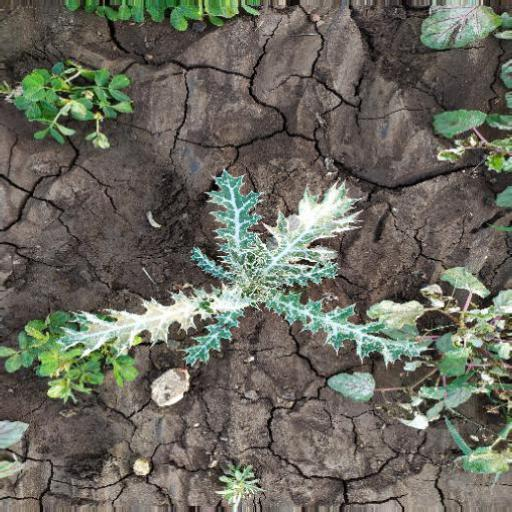weed: (1, 173, 470, 402), (6, 36, 133, 170)
